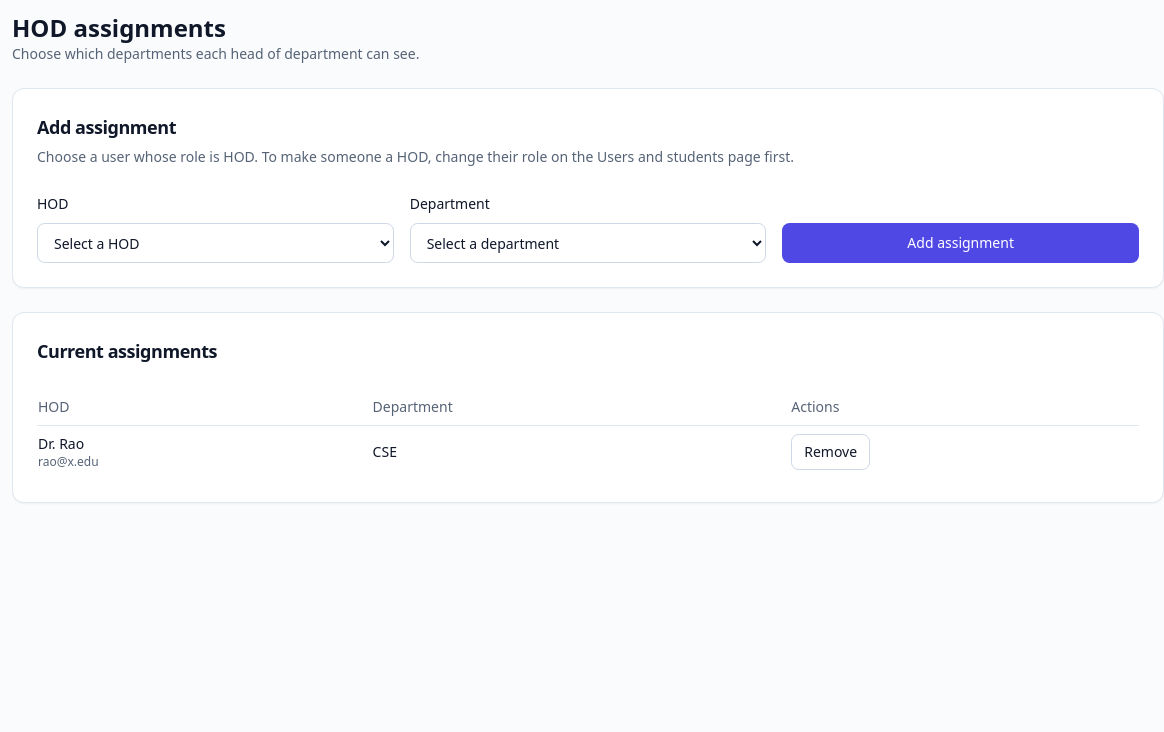
Test case: AdminHodAssignmentsPage › confirms in-page before deleting, and can cancel
Expected: the text "Dr. Rao" is shown, x1=38 y1=434 x2=84 y2=453
Click the button with aria-label "Remove Dr. Rao from CSE" at (831, 452), box x1=791 y1=434 x2=870 y2=470
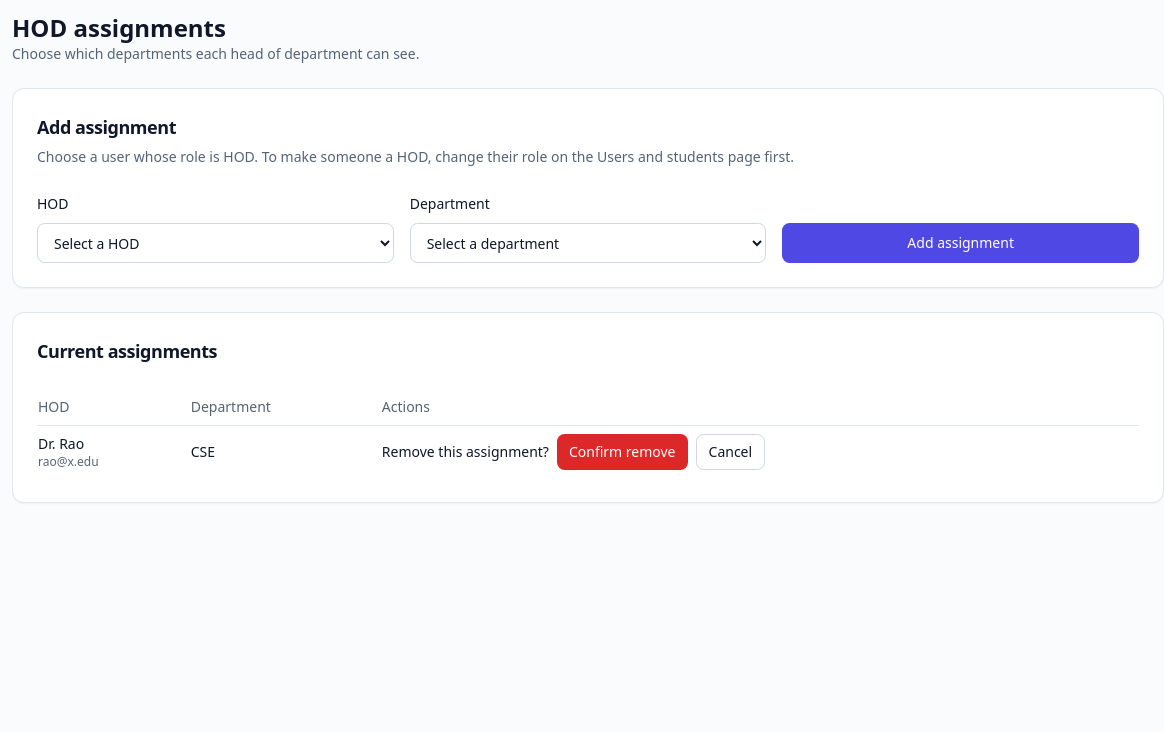
Click the button "Cancel" at (730, 452), box x1=696 y1=434 x2=765 y2=470
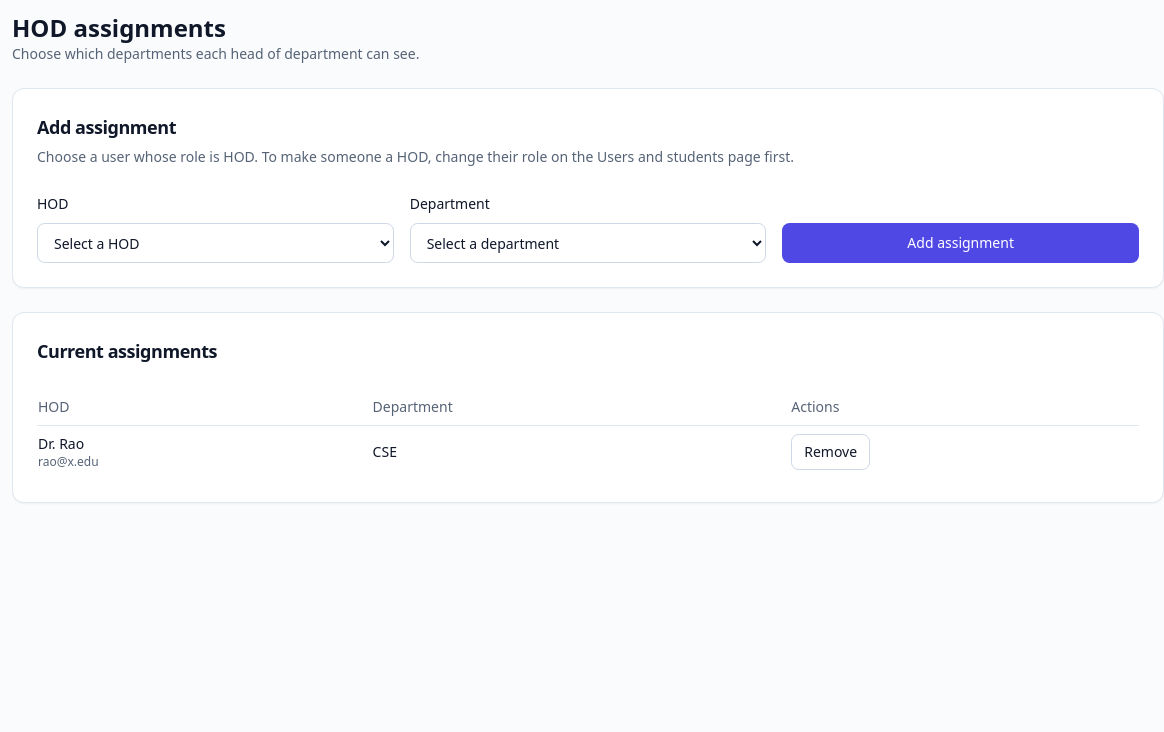
Click the button with aria-label "Remove Dr. Rao from CSE" at (831, 452), box x1=791 y1=434 x2=870 y2=470
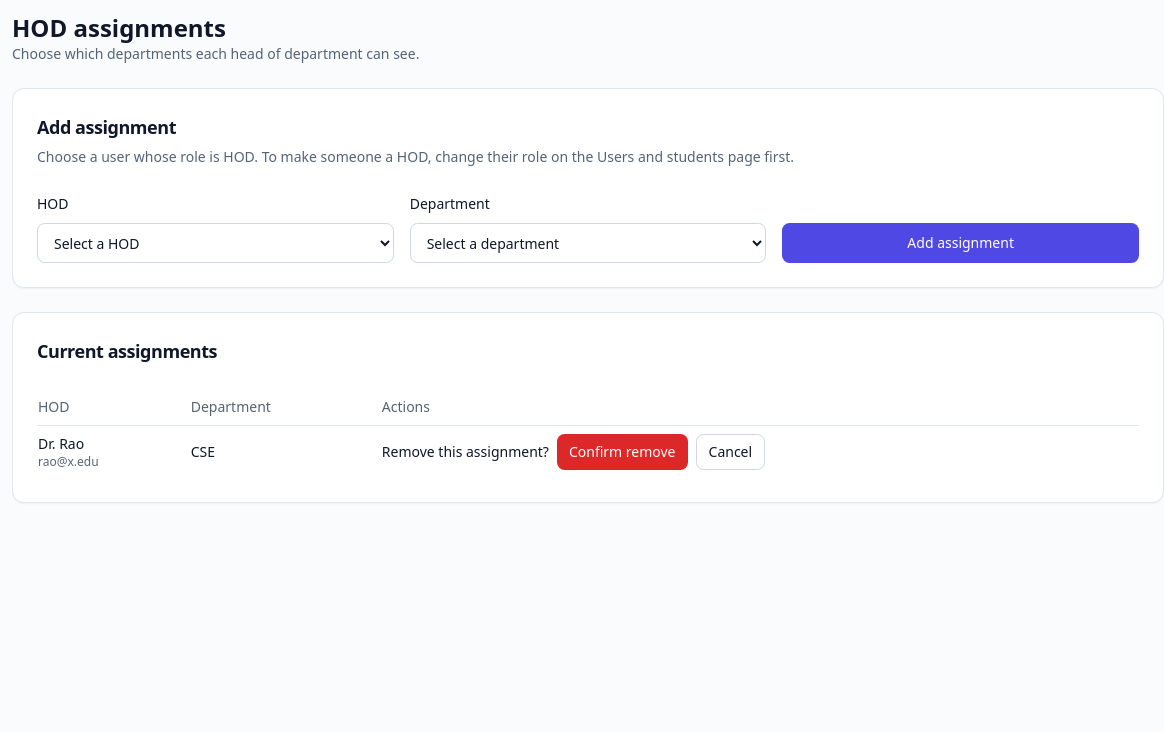
Click the button "Confirm remove" at (622, 452), box x1=557 y1=434 x2=688 y2=470
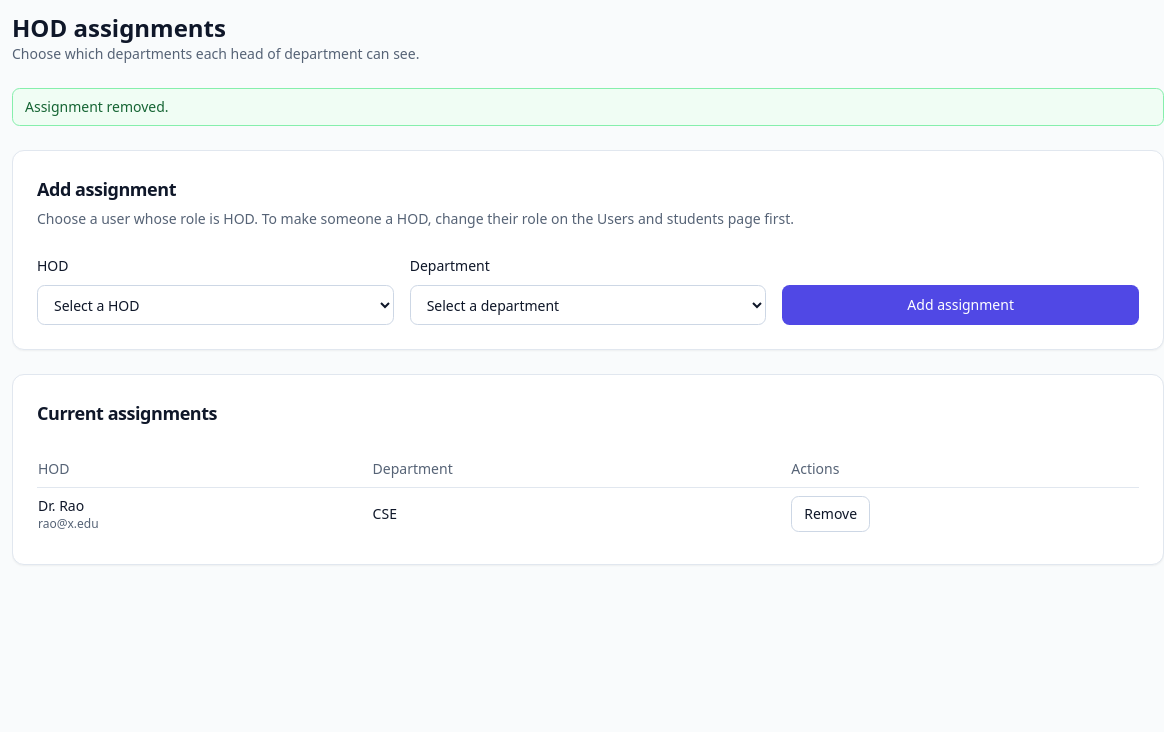
Now the text "Assignment removed." is shown, box x1=12 y1=88 x2=1163 y2=126
